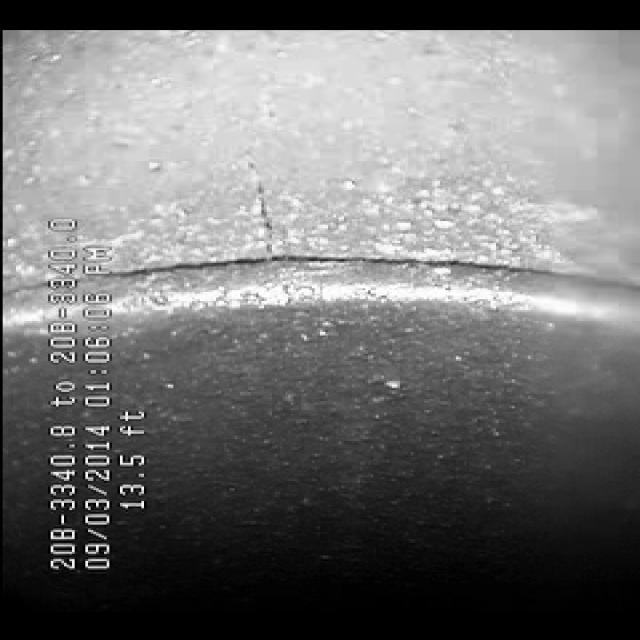Crack: (161, 68, 341, 250)
